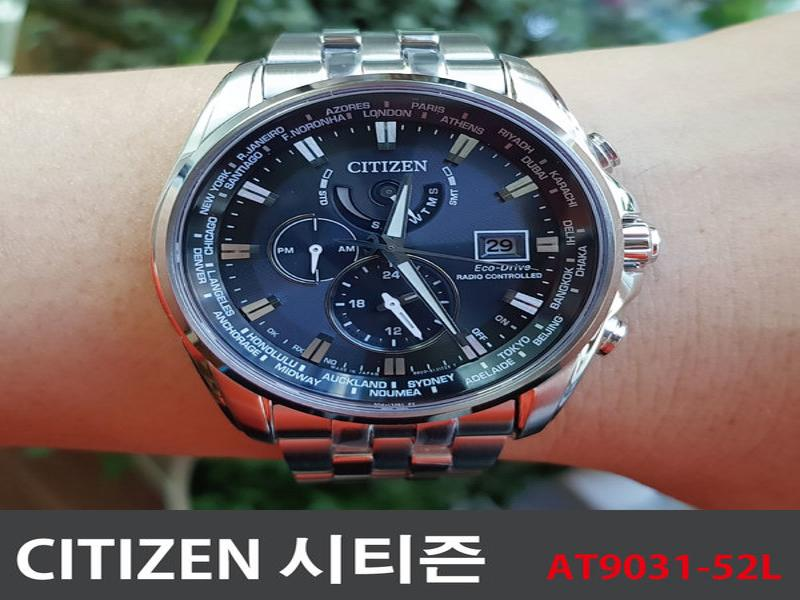watch: (154, 27, 660, 482)
